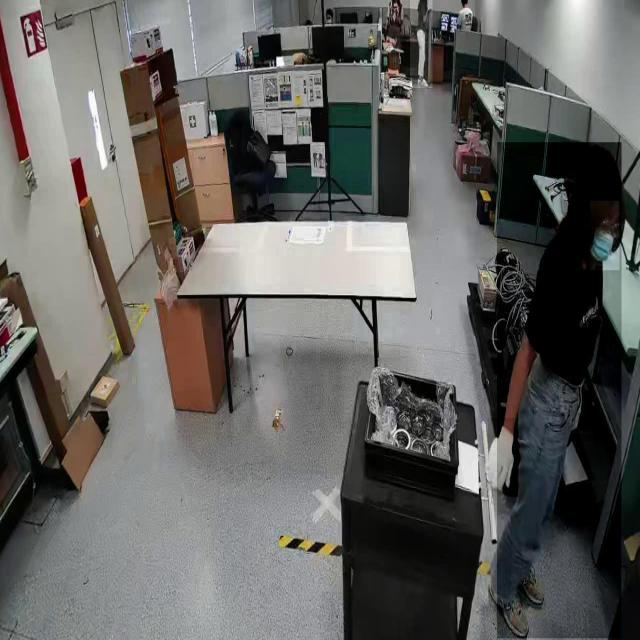face_mask: (590, 201, 620, 270)
hand_glove: (488, 418, 520, 492)
head_nohelmet: (578, 142, 622, 196)
person: (497, 142, 622, 639), (410, 0, 433, 89)
shoes: (498, 538, 548, 616), (487, 561, 531, 640), (416, 73, 429, 91)
